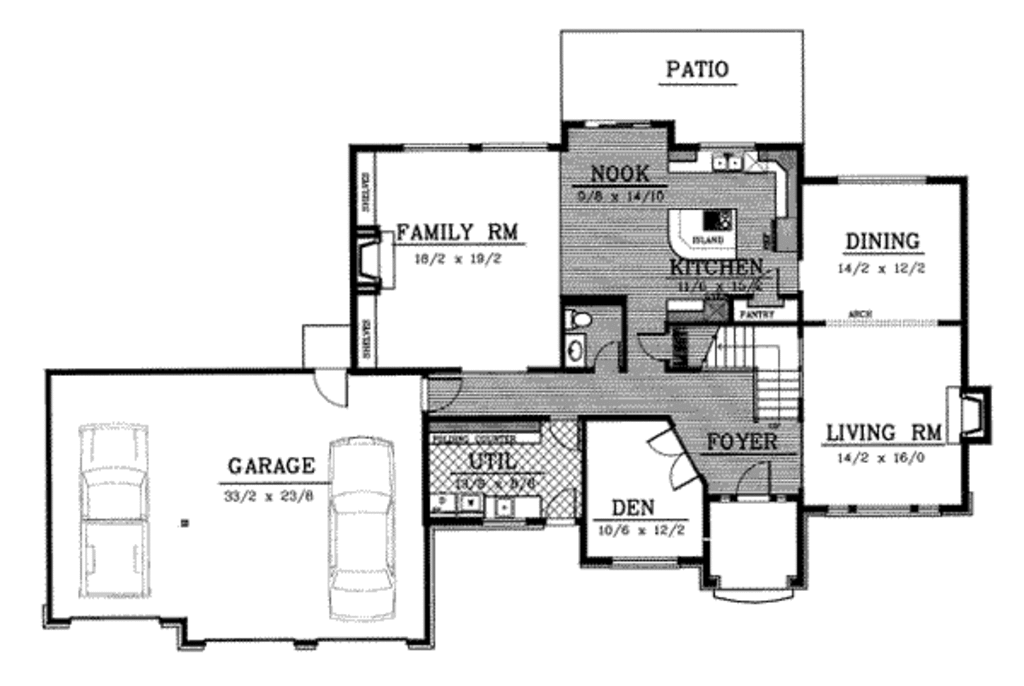door: (646, 424, 705, 494), (311, 359, 355, 412), (415, 375, 470, 412), (547, 478, 586, 529), (735, 459, 779, 503), (538, 413, 586, 451), (748, 267, 787, 308), (637, 327, 670, 367), (592, 341, 627, 372)
kitchen_bar: (661, 200, 741, 264)
large_sink: (562, 303, 594, 333)
small_sink: (562, 334, 587, 369)
stairs: (678, 324, 800, 425)
twin_sink: (707, 139, 750, 184)
window: (836, 169, 928, 190), (402, 134, 475, 156), (482, 133, 553, 152), (607, 557, 686, 570)
